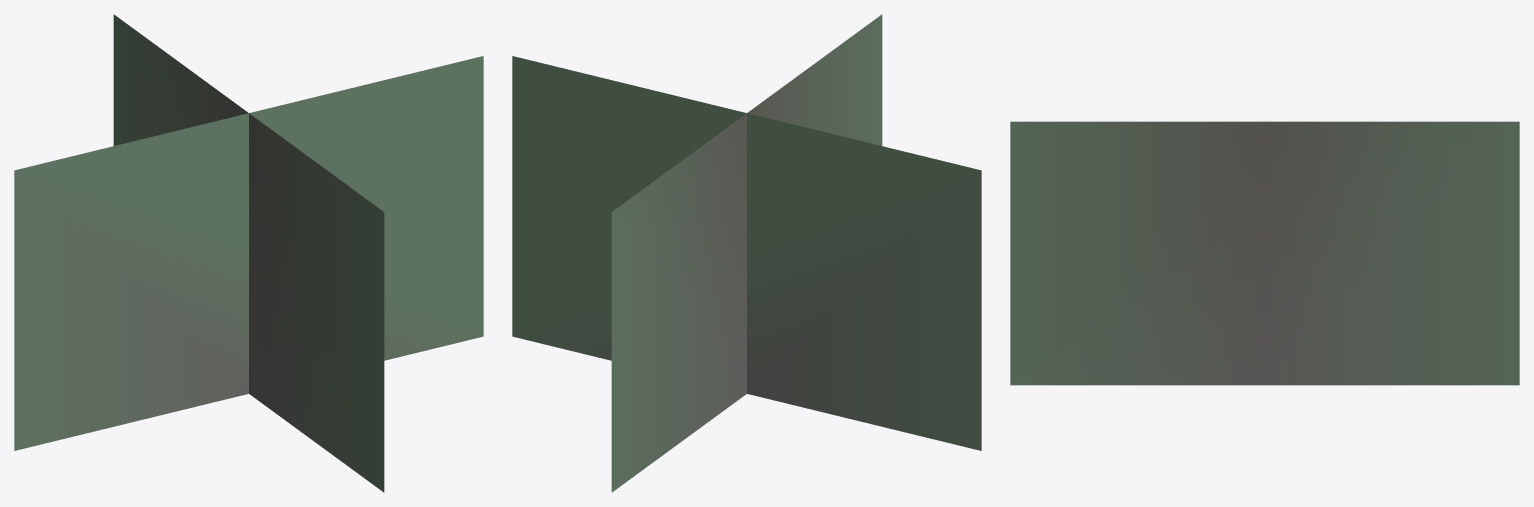
The model's file is tree-pine-small.glb.
3 views of the same model, side by side, from view 1: azimuth 30°, elevation 25°; view 2: azimuth 150°, elevation 25°; view 3: azimuth 270°, elevation 25° (orthographic). The views are drawn at different scales.
Visible parts, largest first — view 1: tree-pine-small; view 2: tree-pine-small; view 3: tree-pine-small.
Boxes of the visible parts, <box> form: tree-pine-small: <box>14,14,483,492</box>; tree-pine-small: <box>512,14,981,492</box>; tree-pine-small: <box>1010,121,1519,385</box>.
Bounding box in the file's own units: 0.7 × 0.4 × 0.7.
